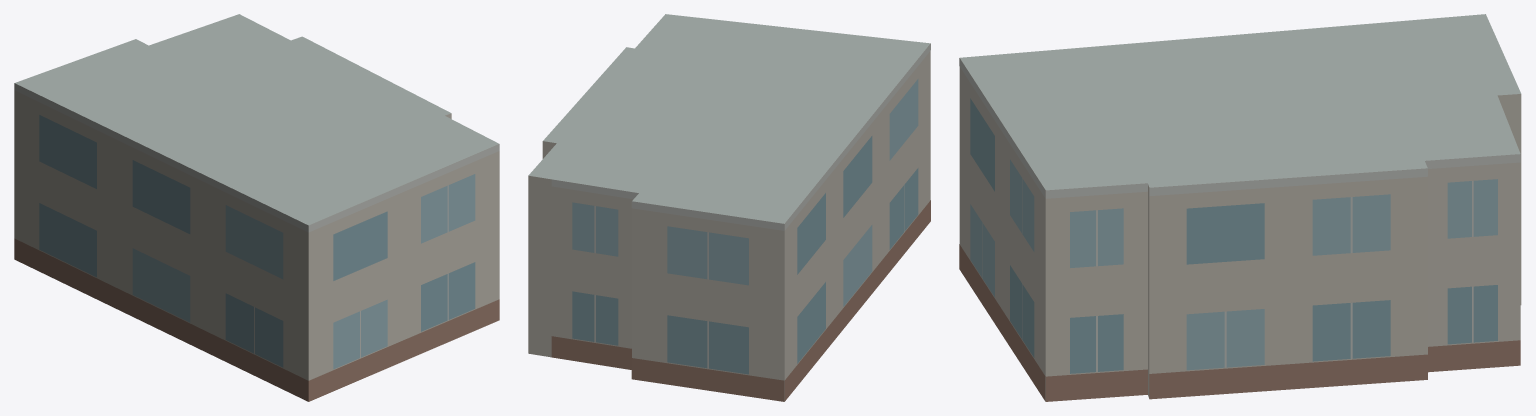
File: survey-upis-33021974.glb
The picture shows the model from 3 angles, left to right: view 1: azimuth 30°, elevation 25°; view 2: azimuth 150°, elevation 25°; view 3: azimuth 270°, elevation 25°; orthographic projection. The views are drawn at different scales.
Visible parts, largest first — view 1: survey-upis-33021974.tmp; view 2: survey-upis-33021974.tmp; view 3: survey-upis-33021974.tmp.
Boxes of the visible parts, box(x1,y1,x2,y2) form: survey-upis-33021974.tmp: box(14, 14, 499, 401); survey-upis-33021974.tmp: box(528, 14, 930, 401); survey-upis-33021974.tmp: box(959, 14, 1521, 401).
Size of the model in its own units: 10.92 by 6.1 by 14.7.
